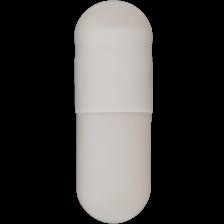76237-215: (0, 0, 224, 224)
